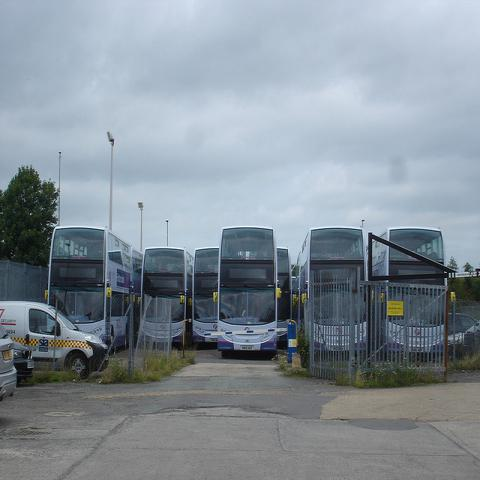bus: (46, 229, 140, 351), (374, 229, 448, 361), (211, 228, 282, 360), (298, 232, 366, 356), (139, 240, 195, 340), (193, 249, 219, 347), (278, 248, 293, 349)
car: (2, 300, 106, 368), (0, 322, 17, 400), (448, 312, 479, 354), (11, 340, 36, 388)
